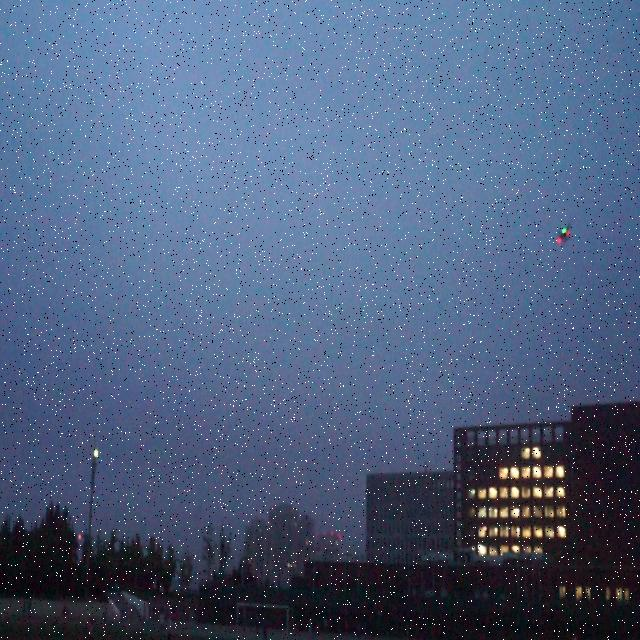UAV: (556, 223, 571, 243)
